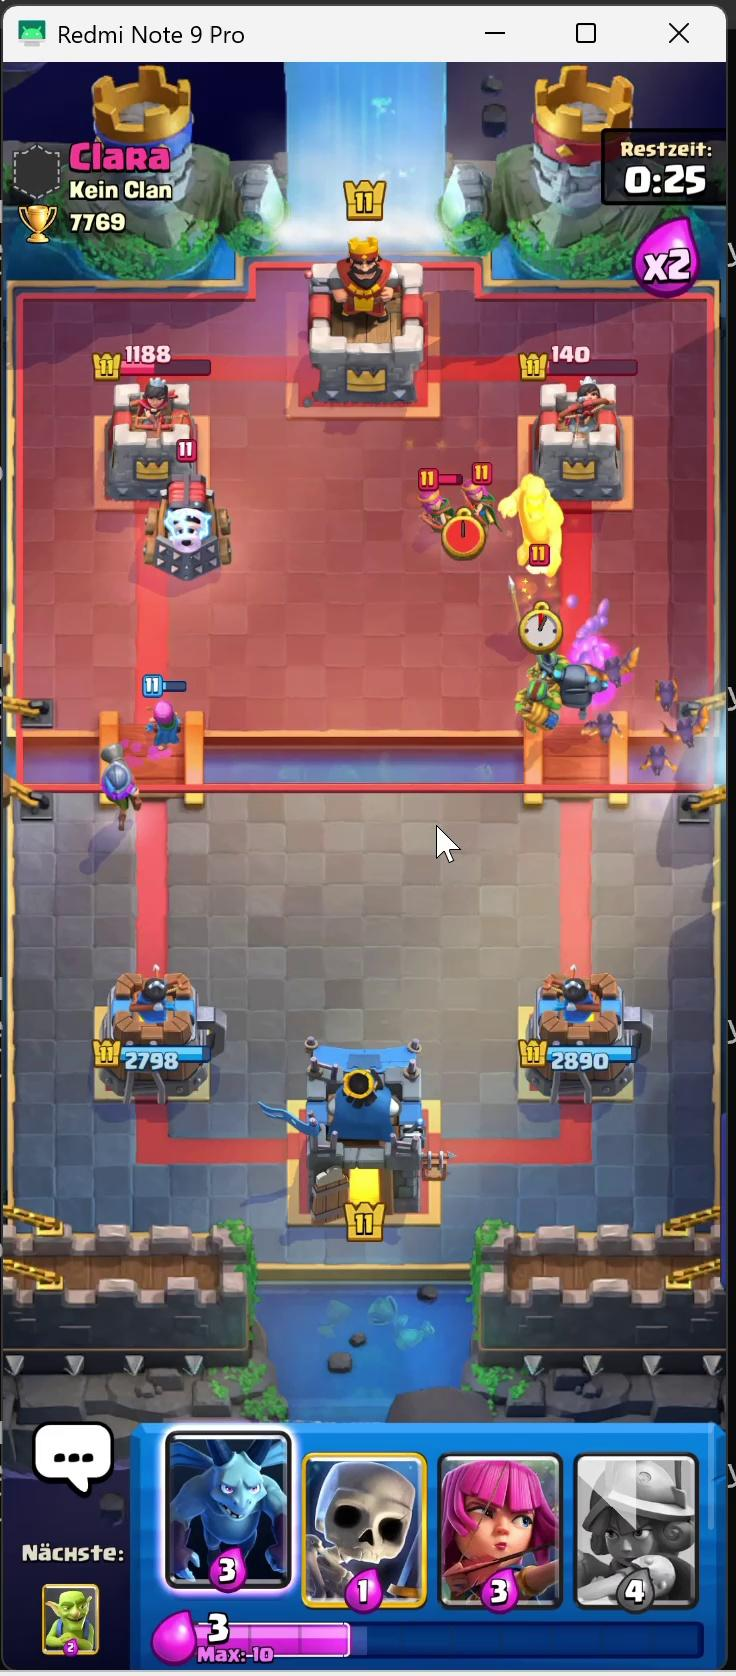archere: (144, 696, 190, 750), (467, 471, 498, 529), (419, 479, 451, 532)
bat: (647, 738, 683, 787), (672, 717, 706, 755), (588, 711, 616, 746), (656, 680, 680, 713)
gobelin_lances: (516, 677, 553, 732)
mini_PEKKA: (555, 658, 604, 718)
mousquetaire: (80, 754, 155, 843)
zappy: (148, 474, 237, 587)
